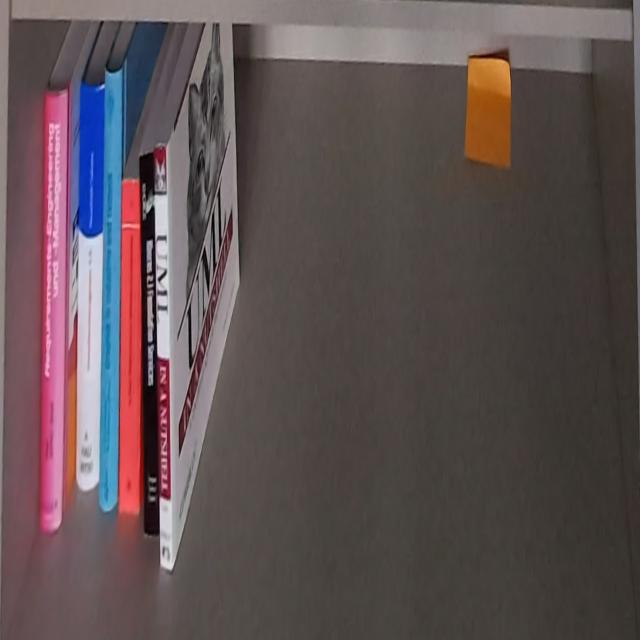Book Spine: (77, 75, 105, 492), (41, 91, 66, 533), (100, 64, 123, 513), (138, 154, 160, 537), (154, 148, 172, 571), (120, 181, 141, 515)
